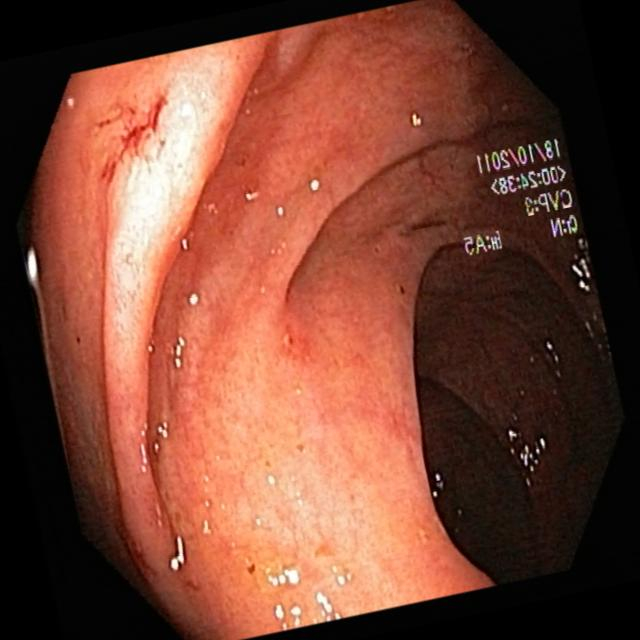ulcerative-colities: (200, 472, 380, 640), (64, 89, 178, 207), (264, 300, 337, 377)
